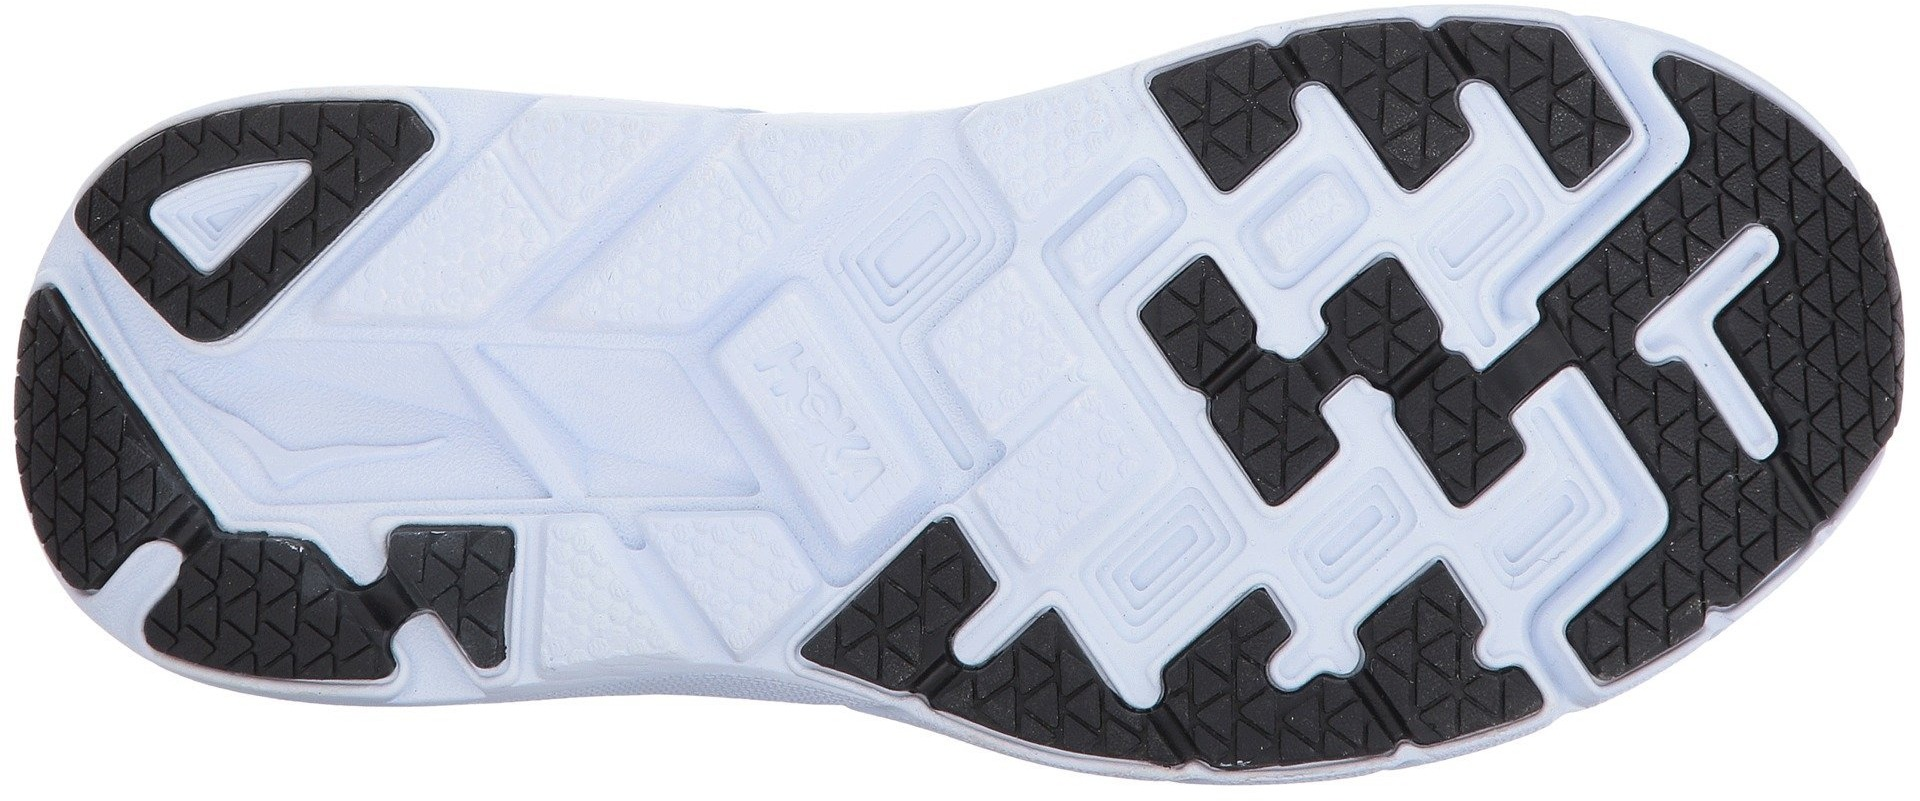polygon: (516, 138, 786, 344), (506, 514, 709, 683), (927, 265, 1102, 448)
quad: (864, 521, 1453, 752), (1190, 133, 1644, 328), (441, 110, 704, 367), (516, 138, 786, 344), (1442, 404, 1631, 599), (506, 514, 709, 683), (131, 145, 322, 316), (927, 265, 1102, 448)
text: (756, 344, 860, 440), (831, 447, 889, 514)
triangle: (864, 521, 1453, 752), (1190, 133, 1644, 328), (1442, 404, 1631, 599), (131, 145, 322, 316), (1656, 446, 1798, 583), (24, 404, 167, 525), (1763, 280, 1896, 408)
